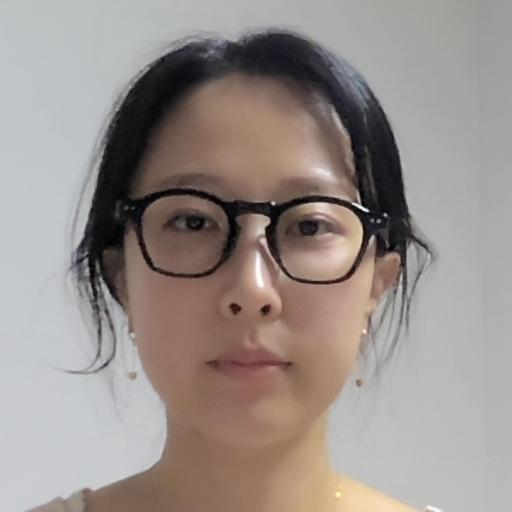no_glasses: (79, 39, 422, 445)
